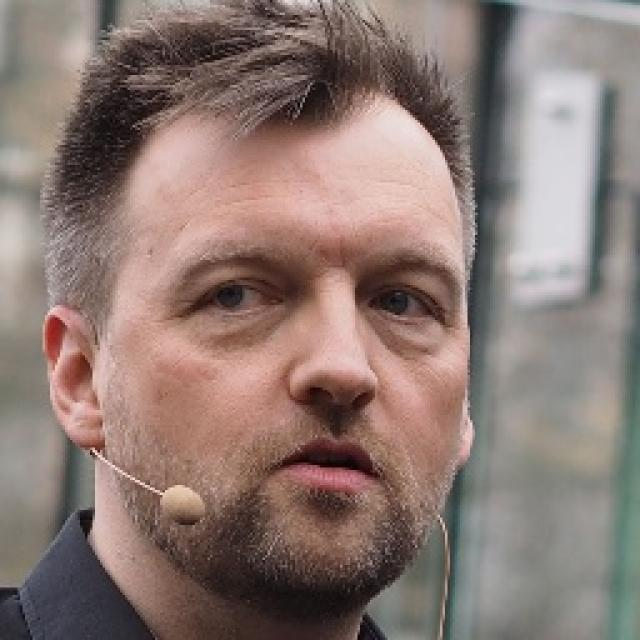earlobe: (66, 405, 106, 451)
eye: (361, 283, 439, 324), (196, 282, 280, 313)
nose: (293, 386, 375, 443)
wholeear: (41, 305, 106, 451)
